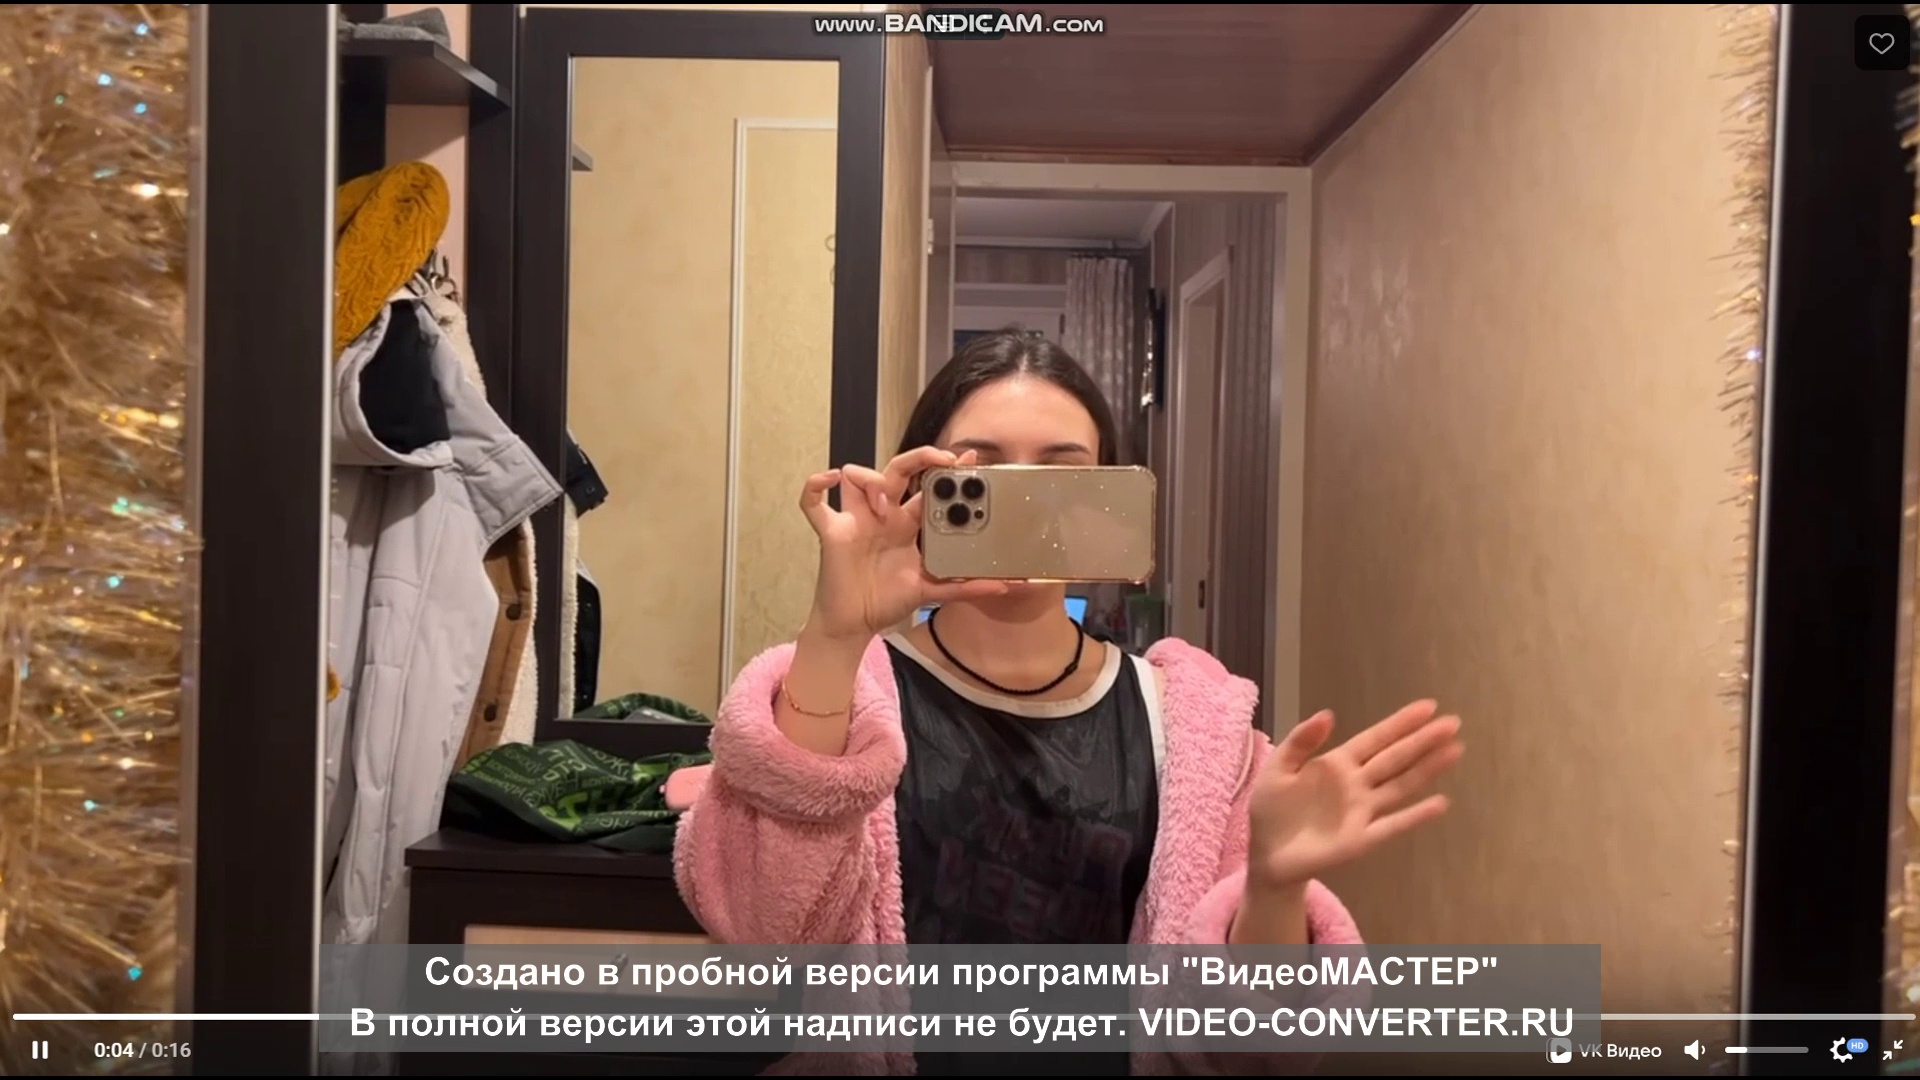Ладонь: (1246, 696, 1469, 889)
